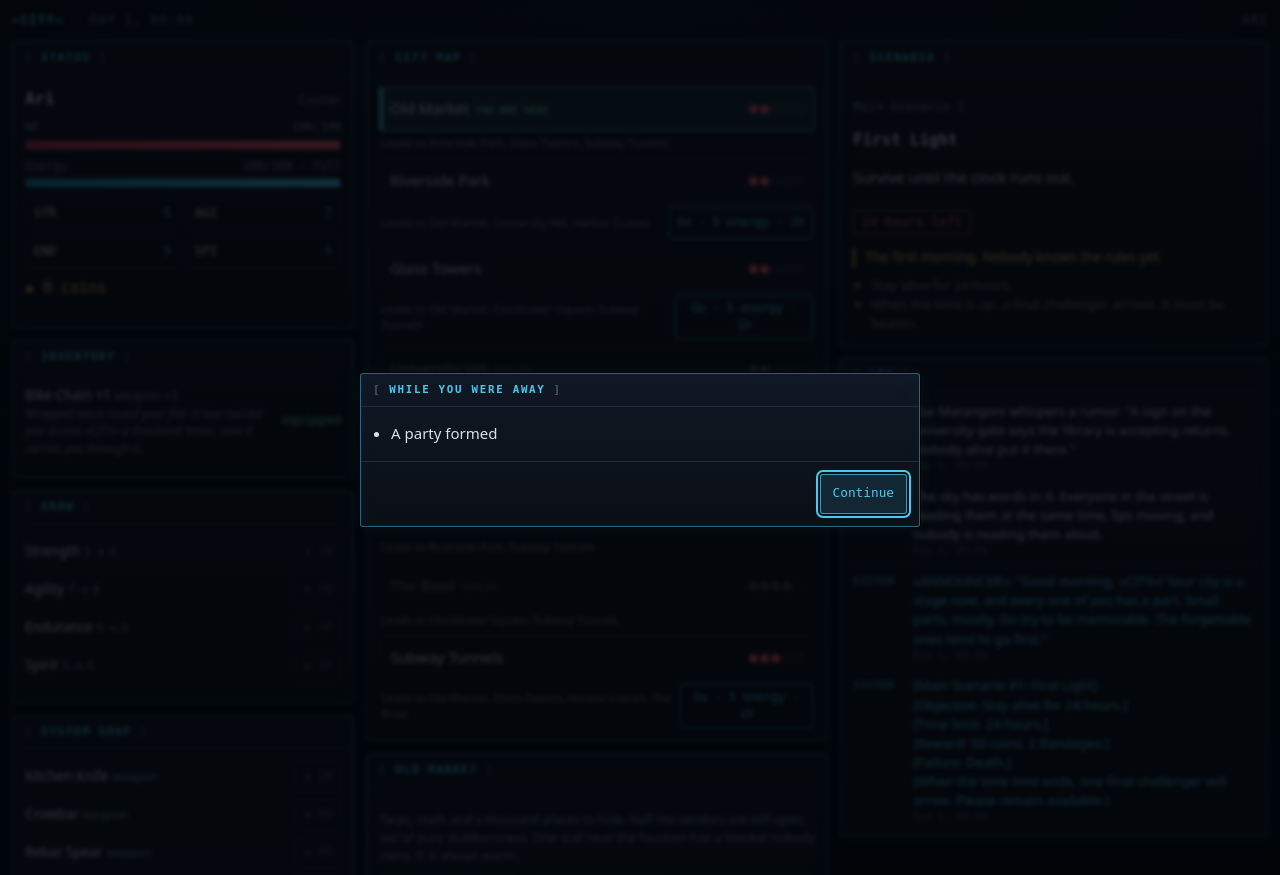
continue closes the digest
What coordinates should you click on to do the following:
click the button "Continue"
I would click on:
 (863, 494)
Its box is [820, 474, 907, 514].
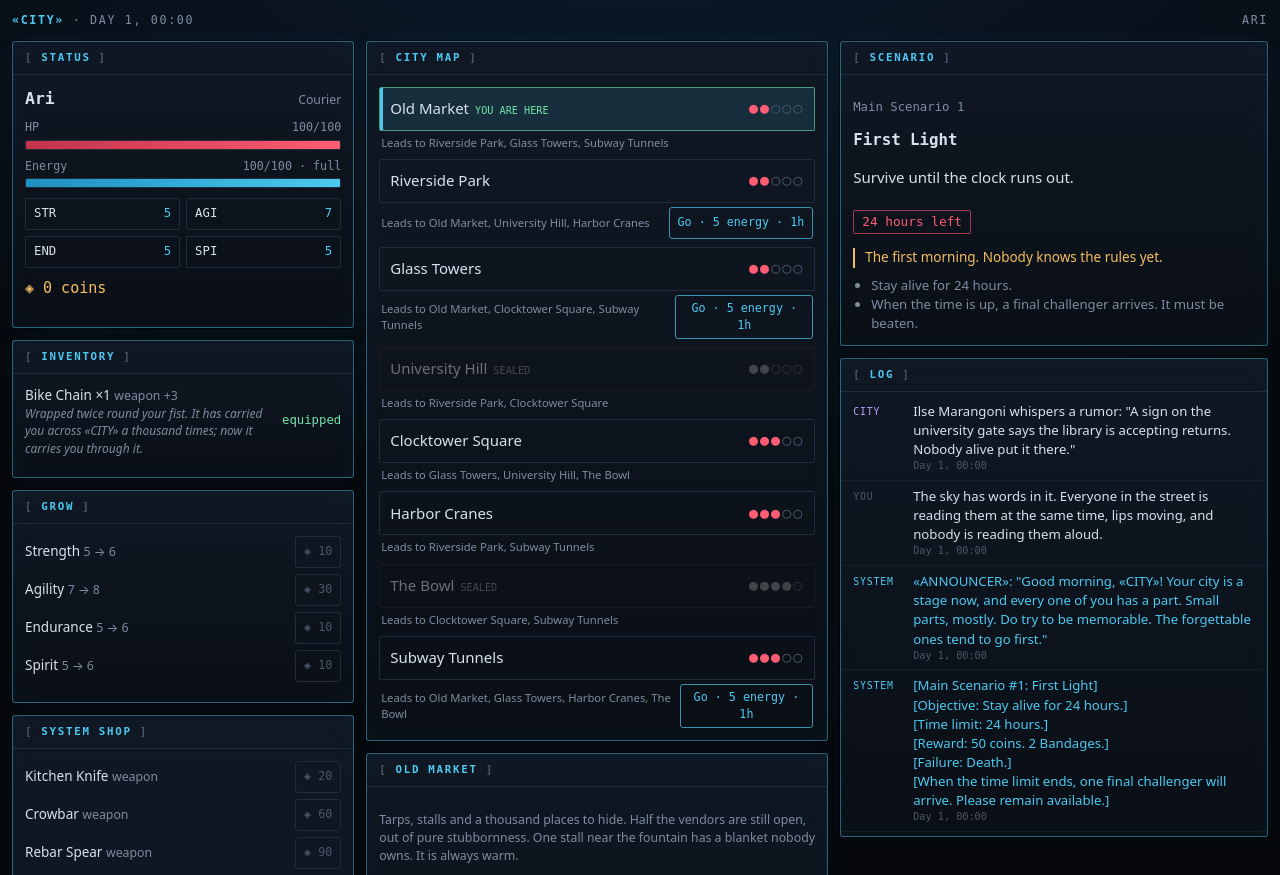
Result: the heading "While you were away" is gone
